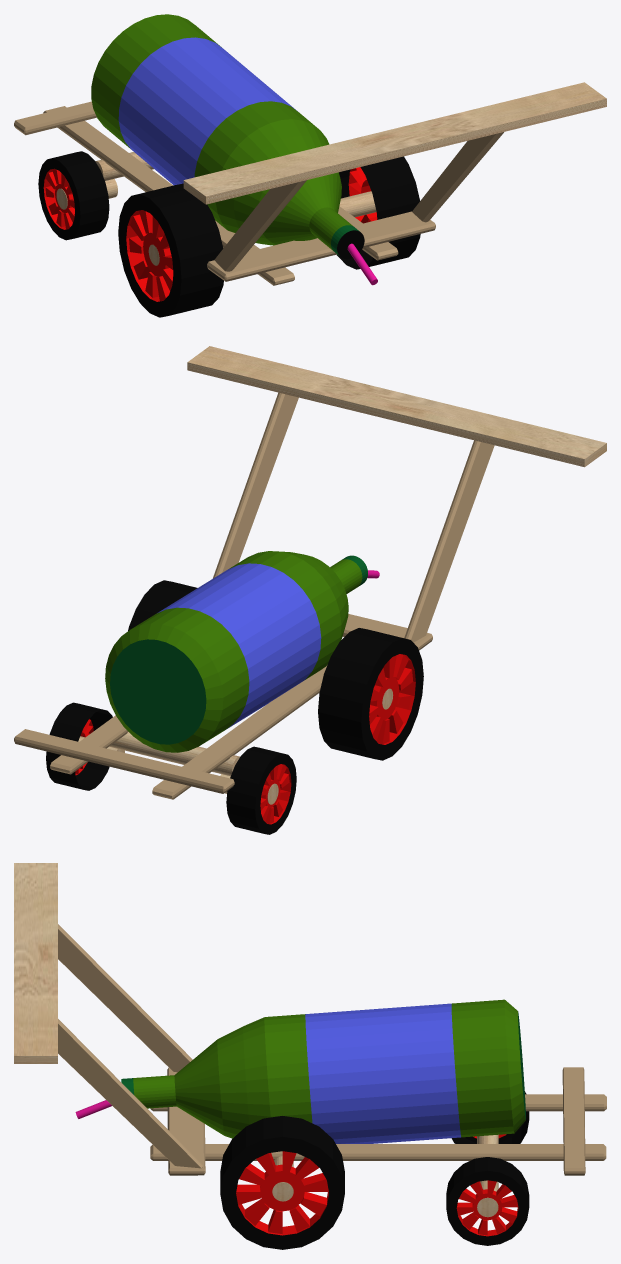
Rendered from carrinho_quimico.glb.
The picture shows the model from 3 angles, top to bottom: view 1: azimuth 30°, elevation 25°; view 2: azimuth 150°, elevation 25°; view 3: azimuth 270°, elevation 25°; orthographic projection.
Parts seen in each view (by area): view 1: Cilindro.010; view 2: Cilindro.010; view 3: Cilindro.010.
Boxes of the visible parts, bbox=[...] form: Cilindro.010: bbox=[14, 14, 606, 317]; Cilindro.010: bbox=[14, 346, 606, 834]; Cilindro.010: bbox=[14, 863, 606, 1249].
Bounding box in the file's own units: 3.88 × 2.22 × 5.04.
8 materials, 1 textured.
